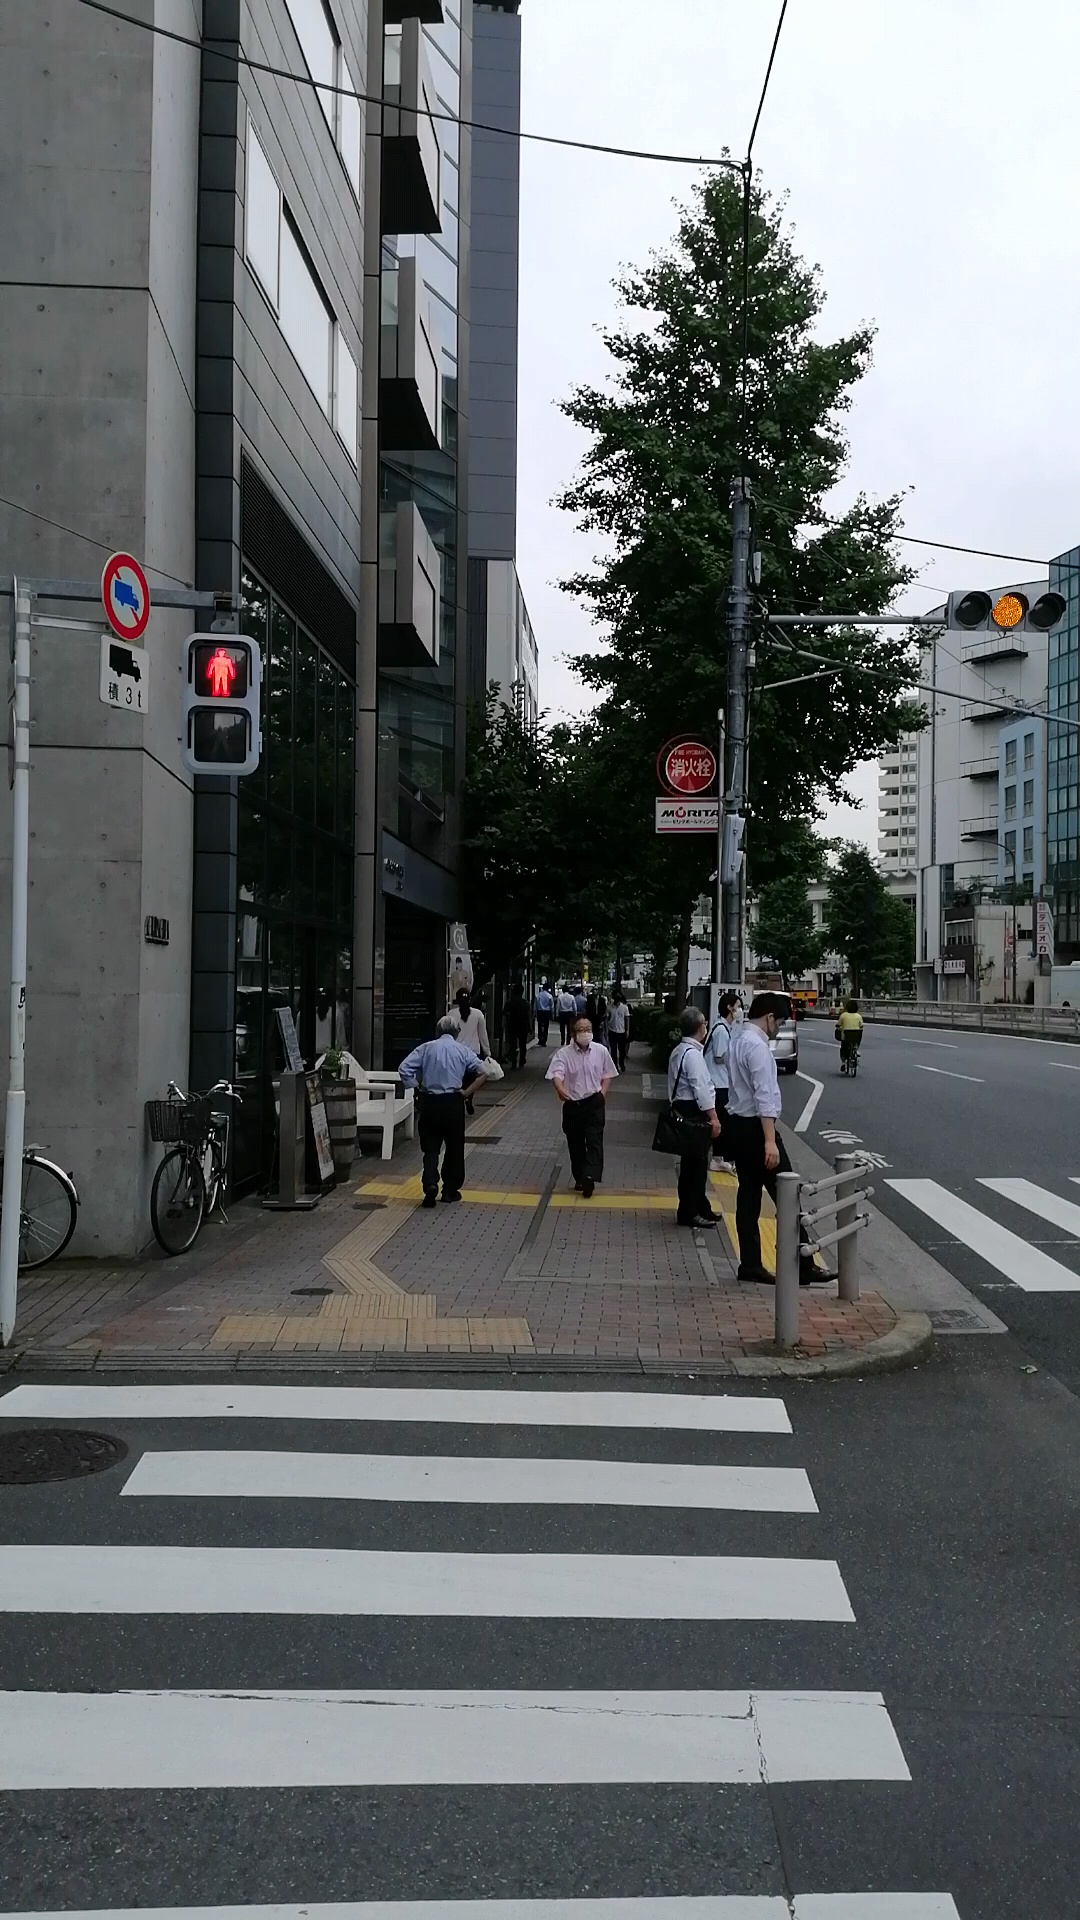red: (185, 633, 260, 775)
